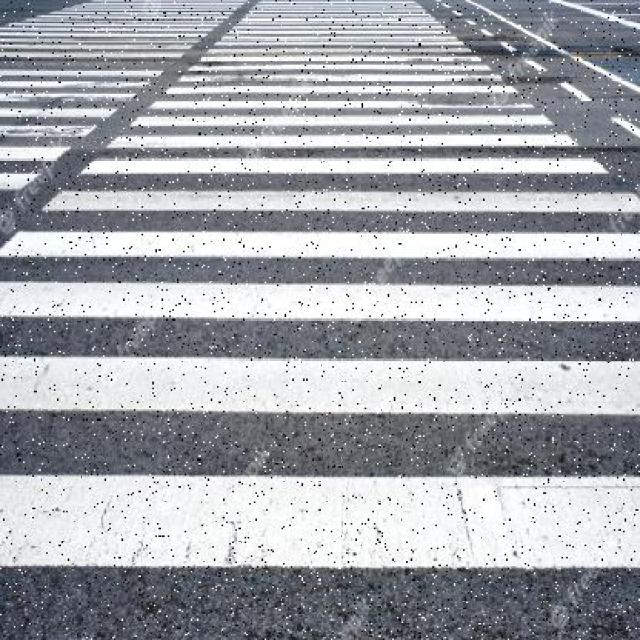intact_crosswalk: (0, 0, 640, 570), (0, 0, 248, 214)
